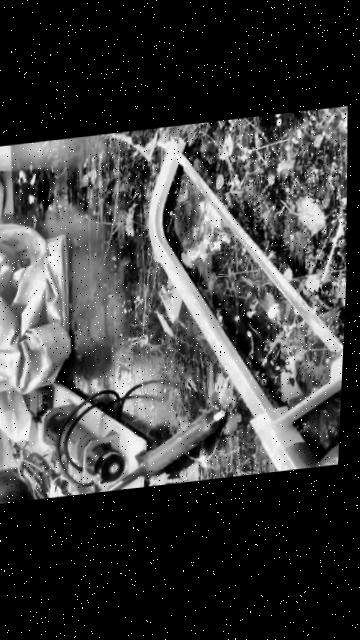pot: (0, 459, 43, 506)
